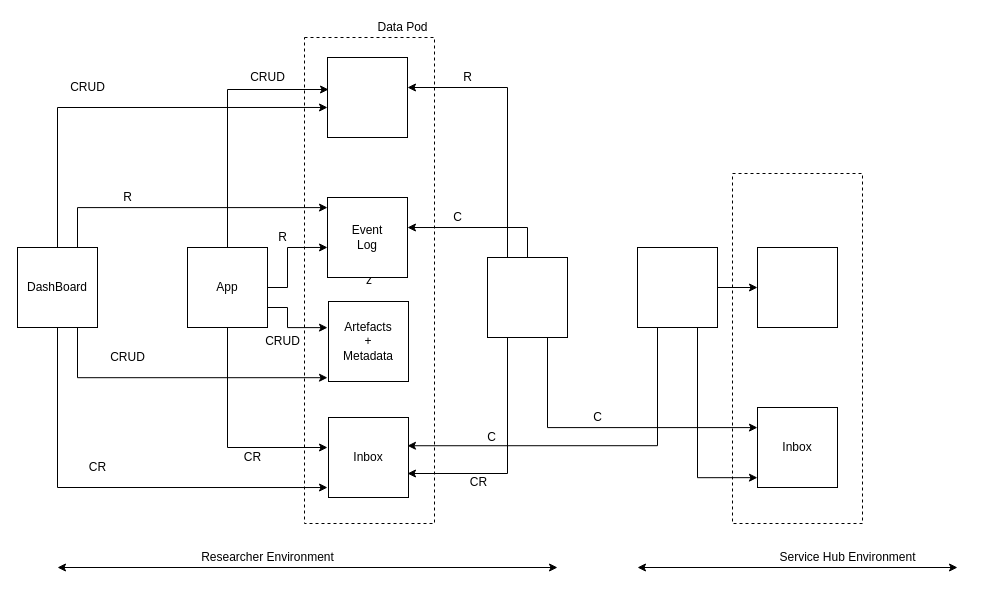
Image size: 984x594. Some labels were removed from this diagram. Here are the shapes that lost their labels. From the top down, the centre of each, then its label:
the point at 367,97: Rule book
the point at 527,297: Orchestrator
the point at 677,287: Something
